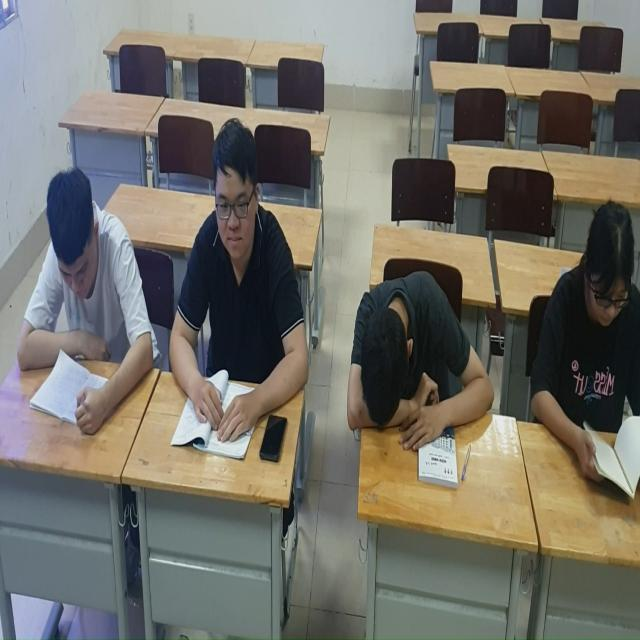read: (169, 118, 321, 477), (18, 164, 150, 428), (532, 200, 640, 502)
sleep: (346, 272, 496, 468)
